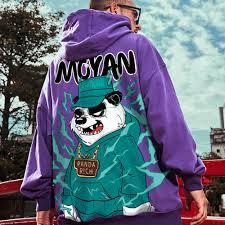sweater: (20, 8, 206, 222)
